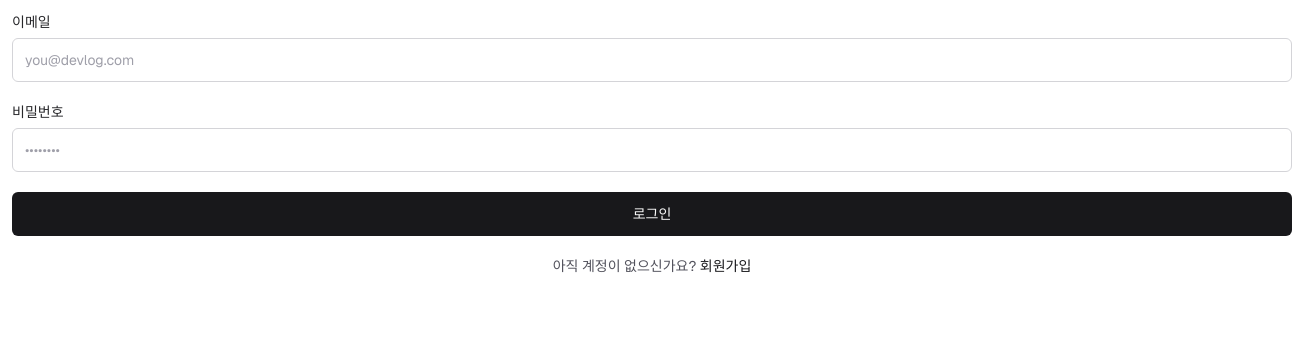
<LoginForm /> › action 이 formError 를 반환하면 role=alert 배너가 노출된다
Type "user@devlog.com" into the field labelled "이메일" at {"x": 652, "y": 60}, box [12,38,1292,82]
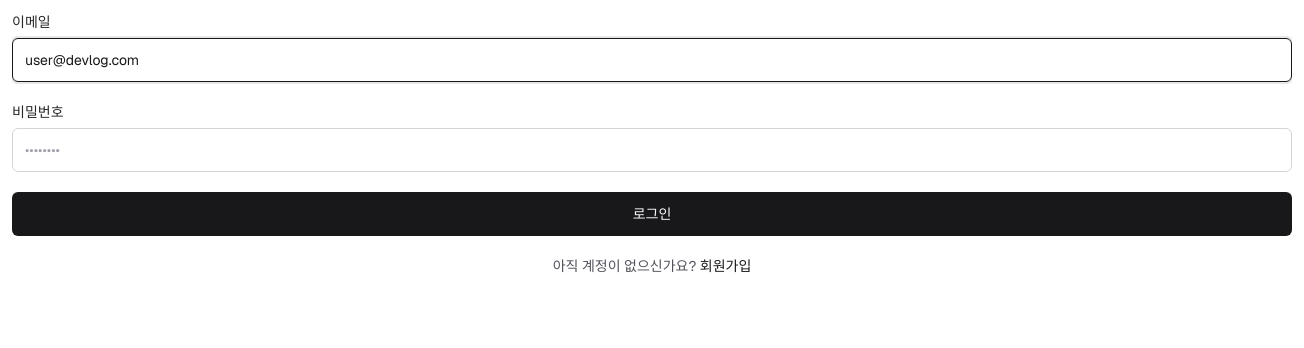
Type "wrongpass" into the password field labelled "비밀번호" at {"x": 652, "y": 150}, box [12,128,1292,172]
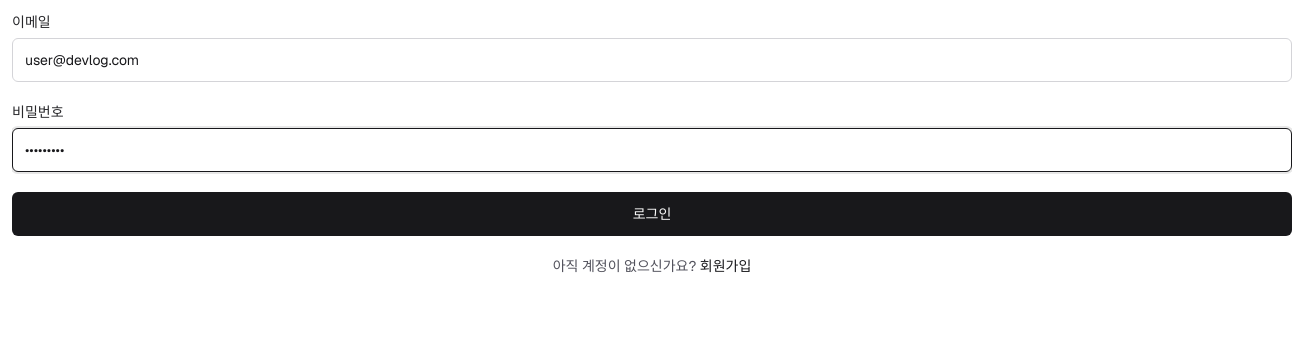
Click the button "로그인" at {"x": 652, "y": 214}, box [12,192,1292,236]
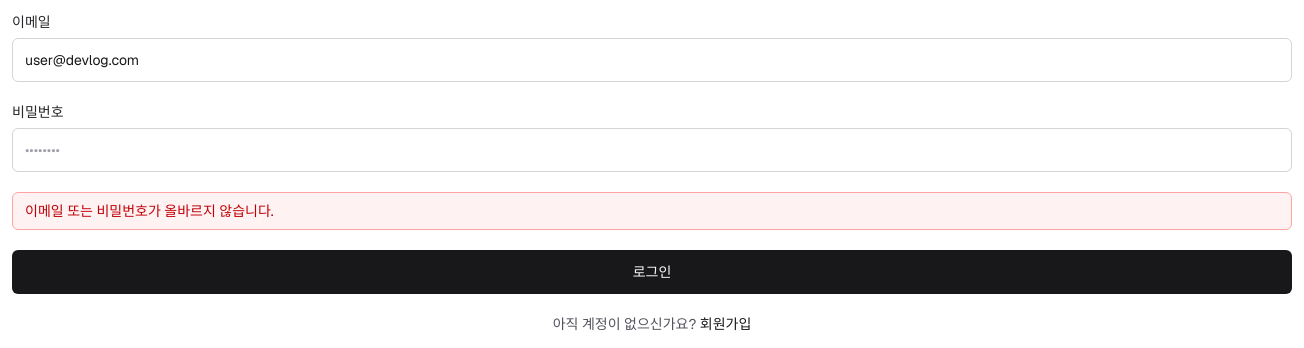
Expected: the message reads "이메일 또는 비밀번호가 올바르지 않습니다.", [25,202,274,220]
